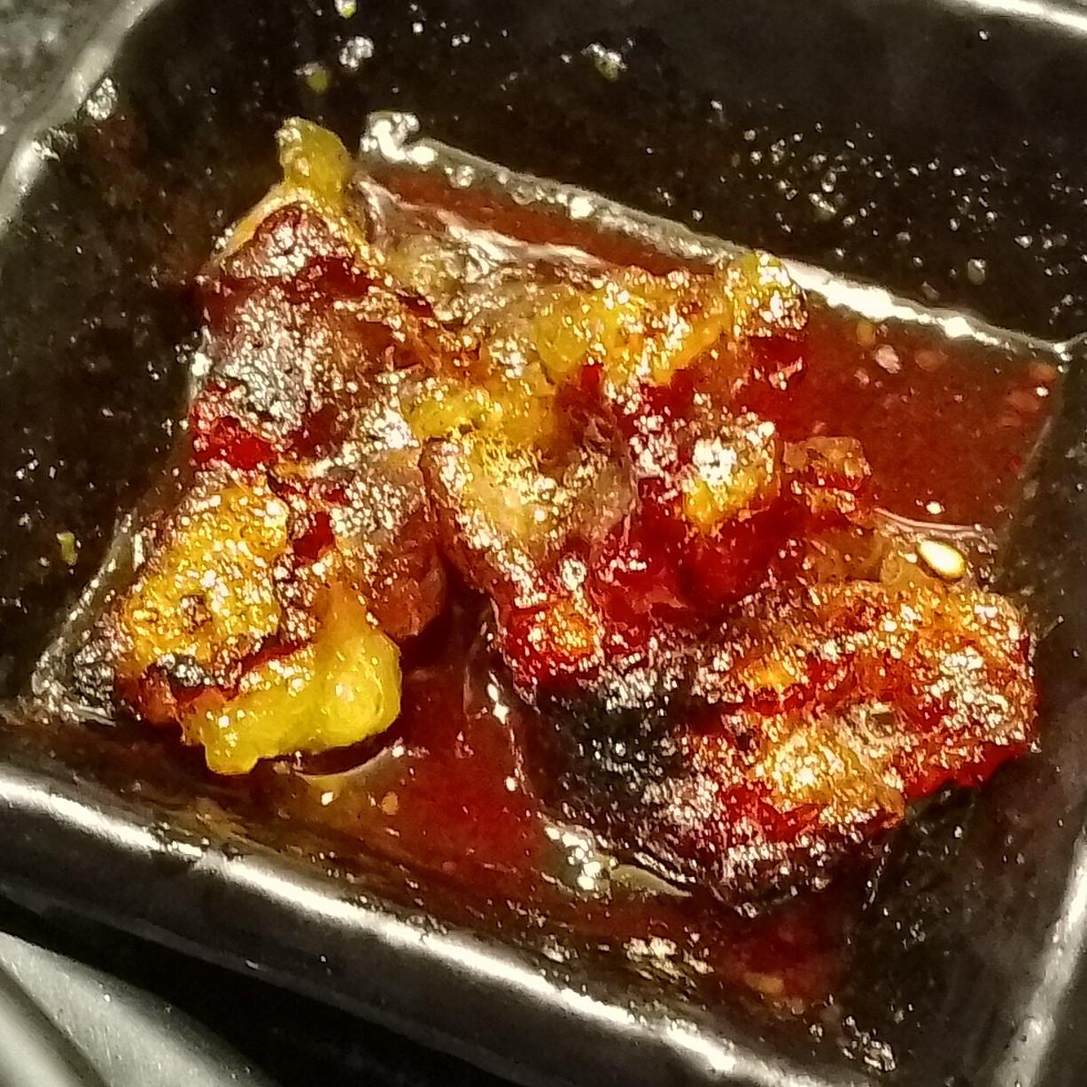Overcooked: (105, 124, 1057, 902)
